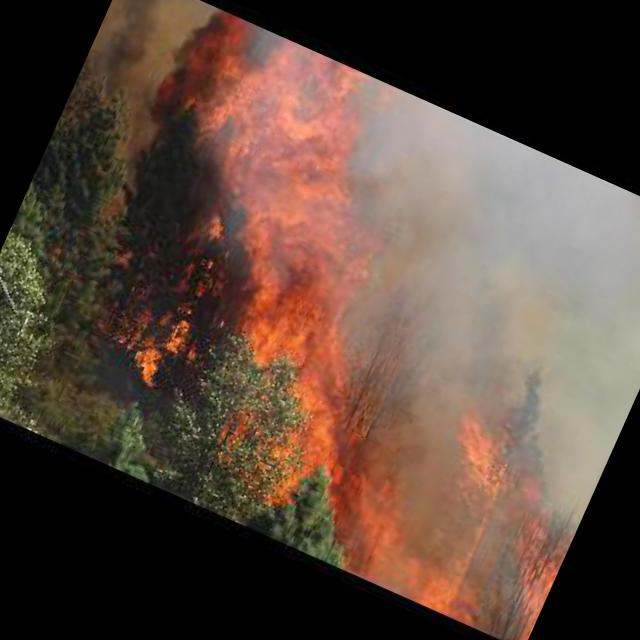fire: (29, 12, 640, 640)
